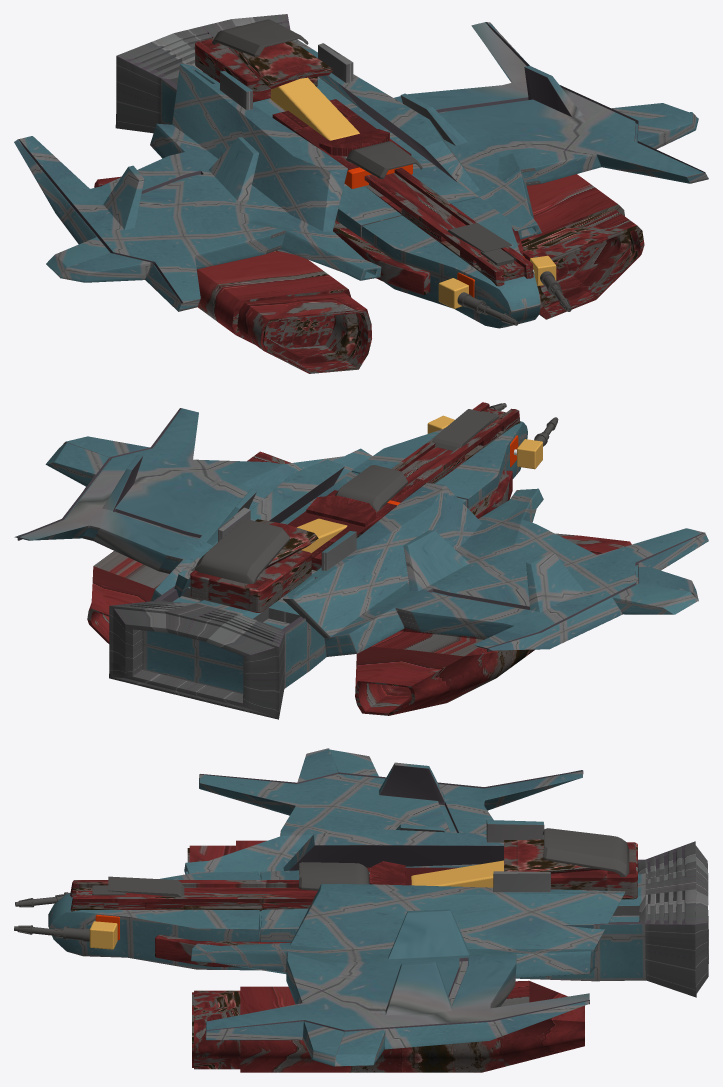
File: space ship.fbx
3 renders of one model, top to bottom at view 1: azimuth 30°, elevation 25°; view 2: azimuth 150°, elevation 25°; view 3: azimuth 270°, elevation 25°, orthographic.
Parts seen in each view (by area): view 1: Cube.016, Cube.015, Cube, Cube.018, Cube.017, Cube.001, Cube.007, Cube.008, Cube.006, Cube.014, Cube.020, Cube.019 (+4 smaller); view 2: Cube.016, Cube.015, Cube, Cube.018, Cube.017, Cube.020, Cube.019, Cube.001, Cube.006, Cube.004, Cube.003, Cube.008 (+3 smaller); view 3: Cube.015, Cube.016, Cube, Cube.017, Cube.001, Cube.019, Cube.020, Cube.008, Cube.004, Cube.007, Cube.013, Cube.003 (+4 smaller).
Boxes of the visible parts, x1,y1,x2,y2 form: Cube.016: [14, 63, 381, 311]; Cube.015: [292, 22, 708, 239]; Cube: [115, 14, 540, 328]; Cube.018: [94, 176, 371, 373]; Cube.017: [520, 174, 644, 319]; Cube.001: [364, 167, 533, 286]; Cube.007: [270, 77, 359, 140]; Cube.008: [228, 41, 333, 88]; Cube.006: [272, 99, 411, 170]; Cube.014: [333, 220, 430, 294]; Cube.020: [195, 37, 317, 102]; Cube.019: [212, 19, 308, 56]; Cube.016: [283, 483, 708, 656]; Cube.015: [14, 408, 372, 601]; Cube: [109, 421, 527, 719]; Cube.018: [355, 533, 631, 715]; Cube.017: [87, 451, 290, 643]; Cube.020: [190, 550, 311, 612]; Cube.019: [195, 519, 290, 583]; Cube.001: [390, 402, 520, 502]; Cube.006: [288, 490, 396, 570]; Cube.004: [335, 465, 407, 511]; Cube.003: [432, 409, 496, 451]; Cube.008: [255, 519, 318, 568]; Cube.015: [191, 871, 625, 1066]; Cube.016: [184, 748, 583, 874]; Cube: [48, 841, 708, 997]; Cube.017: [192, 980, 584, 1072]; Cube.001: [70, 880, 317, 911]; Cube.019: [542, 828, 629, 876]; Cube.020: [551, 842, 637, 899]; Cube.008: [504, 839, 600, 873]; Cube.004: [298, 862, 369, 890]; Cube.007: [411, 860, 503, 887]; Cube.013: [155, 934, 291, 967]; Cube.003: [108, 876, 184, 897].
Size of what is drawn, in the model's own units: 6126 by 1620 by 5743.
